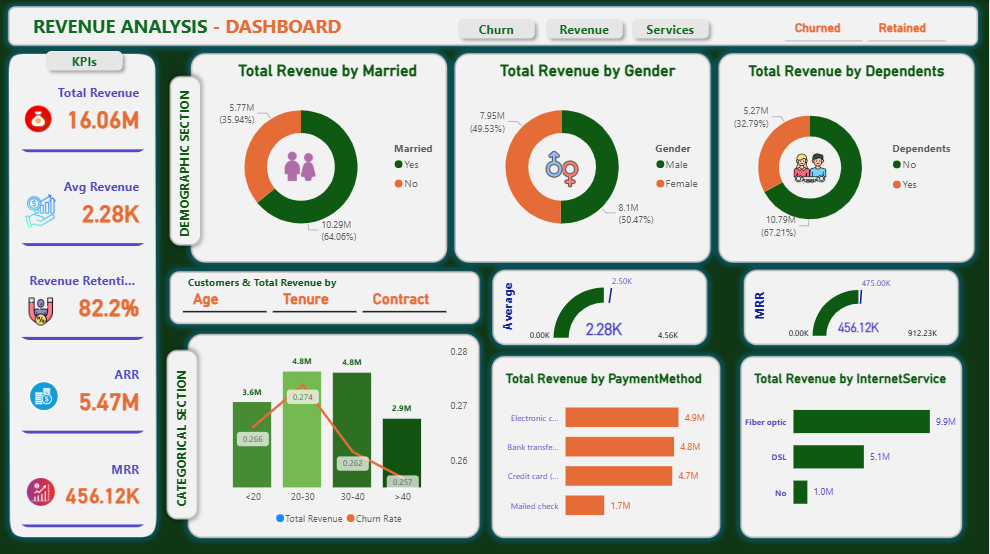

The dashboard page shown, as its layout file describes it:
{"tool":"powerbi","page":{"name":"Revenue","canvas":[1280,720],"ordinal":1},"visuals":[{"type":"cardVisual","fields":{"Data":["All_measure.Total Revenue","All_measure.Avg Revenue","All_measure.Revenue Retention Rate","All_measure.ARR","All_measure.MRR"]},"box":[20.5,78.3,180.6,608.4],"z":0},{"type":"donutChart","fields":{"Y":["All_measure.Total Revenue"],"Category":["Churn_Analysis.Partner"]},"box":[266.9,79,319.3,250.3],"z":0,"group":"g1"},{"type":"donutChart","fields":{"Y":["All_measure.Total Revenue"],"Category":["Churn_Analysis.Dependents"]},"box":[938.6,79.9,316.1,250.2],"z":0,"group":"g2"},{"type":"donutChart","fields":{"Y":["All_measure.Total Revenue"],"Category":["Churn_Analysis.Gender"]},"box":[604.1,79,316.5,250.3],"z":1000,"group":"g4"},{"type":"lineClusteredColumnComboChart","fields":{"Category":["Churn_Analysis.Age_Range","Churn_Analysis.Tenure_range","Churn_Analysis.Contract"],"Y":["All_measure.Total Revenue"],"Y2":["All_measure.Churn Rate"]},"box":[273.6,440.3,339.6,246.9],"z":1000},{"type":"textbox","box":[41.4,11.6,519.7,46.3],"z":2000},{"type":"advancedSlicerVisual","fields":{"Values":["Field_Parameter.Field_Parameter"]},"box":[234.4,356.5,351.2,52.6],"z":3000},{"type":"advancedSlicerVisual","fields":{"Values":["Churn_Analysis.Exited"]},"box":[1011.8,7.2,218.9,51.1],"z":4000},{"type":"image","box":[362.6,183.9,57.1,63.5],"z":4000,"group":"g1"},{"type":"group","id":"g1","title":"Group 1","box":[266.9,79,319.6,250.2],"z":5000},{"type":"group","id":"g2","title":"Group 3","box":[938.6,79.9,316.1,250.2],"z":6000},{"type":"textbox","box":[241.6,350.3,246,30.3],"z":7000},{"type":"group","id":"g3","title":"Group 4","box":[604.1,79,316.1,250.2],"z":8000},{"type":"group","id":"g4","title":"Group 2","box":[604.1,79,316.5,250.3],"z":9000,"group":"g3"},{"type":"shape","box":[225.9,98.5,31.4,223.4],"z":9000},{"type":"shape","box":[54.4,56.2,116.8,43],"z":10000},{"type":"image","box":[30.3,123.9,47.2,59.7],"z":11000},{"type":"image","box":[1018.8,191.4,62.8,52],"z":11001,"group":"g2"},{"type":"image","box":[30.3,243.3,53.5,57.9],"z":12000},{"type":"image","box":[33.9,372.6,46.4,57.9],"z":13000},{"type":"image","box":[33.9,484.9,53.5,51.7],"z":14000},{"type":"image","box":[33,607.9,46.4,53.5],"z":15000},{"type":"image","box":[701.4,189.7,57.4,56.5],"z":15001,"group":"g3"},{"type":"clusteredBarChart","fields":{"Y":["All_measure.Total Revenue"],"Category":["Churn_Analysis.PaymentMethod"]},"box":[642.7,478.7,280.8,207.7],"z":16000},{"type":"shape","box":[221.9,452.8,31.2,222.8],"z":17000},{"type":"gauge","title":"Average Revenue","fields":{"Y":["All_measure.Avg Revenue"]},"box":[677.4,337.8,211.3,111.4],"z":18000},{"type":"shape","box":[642.7,350.3,31.2,90],"z":19000},{"type":"clusteredBarChart","fields":{"Y":["All_measure.Total Revenue"],"Category":["Churn_Analysis.InternetService"]},"box":[958.2,478.7,284.3,197],"z":20000},{"type":"gauge","title":"Average Revenue","fields":{"Y":["All_measure.MRR"]},"box":[1011.7,337.8,211.3,111.4],"z":21000},{"type":"shape","box":[968,348.5,31.2,90],"z":22000},{"type":"shape","box":[699.8,15.2,116.9,42.8],"z":23000},{"type":"shape","box":[810.5,15.2,116.9,42.8],"z":24000},{"type":"shape","box":[586.4,15.2,116.9,42.8],"z":25000},{"type":"actionButton","box":[595.4,17.9,100,40.2],"z":26000},{"type":"actionButton","box":[820.3,17.9,100,40.2],"z":27000}]}

Visuals, with their boxes in screenshot pixels (x1, y1, x2, y2), scaled from the page's 1280x720 canvas onto the 990x554 screenshot:
cardVisual - All_measure.Total Revenue x All_measure.Avg Revenue: [left=16, top=60, right=156, bottom=528]
donutChart - All_measure.Total Revenue x Churn_Analysis.Partner: [left=206, top=61, right=453, bottom=253]
donutChart - All_measure.Total Revenue x Churn_Analysis.Dependents: [left=726, top=61, right=970, bottom=254]
donutChart - All_measure.Total Revenue x Churn_Analysis.Gender: [left=467, top=61, right=712, bottom=253]
lineClusteredColumnComboChart - Churn_Analysis.Age_Range x Churn_Analysis.Tenure_range: [left=212, top=339, right=474, bottom=529]
textbox: [left=32, top=9, right=434, bottom=45]
advancedSlicerVisual - Field_Parameter.Field_Parameter: [left=181, top=274, right=453, bottom=315]
advancedSlicerVisual - Churn_Analysis.Exited: [left=783, top=6, right=952, bottom=45]
image: [left=280, top=142, right=325, bottom=190]
"Group 1" group: [left=206, top=61, right=454, bottom=253]
"Group 3" group: [left=726, top=61, right=970, bottom=254]
textbox: [left=187, top=270, right=377, bottom=293]
"Group 4" group: [left=467, top=61, right=712, bottom=253]
"Group 2" group: [left=467, top=61, right=712, bottom=253]
shape: [left=175, top=76, right=199, bottom=248]
shape: [left=42, top=43, right=132, bottom=76]
image: [left=23, top=95, right=60, bottom=141]
image: [left=788, top=147, right=837, bottom=187]
image: [left=23, top=187, right=65, bottom=232]
image: [left=26, top=287, right=62, bottom=331]
image: [left=26, top=373, right=68, bottom=413]
image: [left=26, top=468, right=61, bottom=509]
image: [left=542, top=146, right=587, bottom=189]
clusteredBarChart - All_measure.Total Revenue x Churn_Analysis.PaymentMethod: [left=497, top=368, right=714, bottom=528]
shape: [left=172, top=348, right=196, bottom=520]
"Average Revenue" gauge: [left=524, top=260, right=687, bottom=346]
shape: [left=497, top=270, right=521, bottom=339]
clusteredBarChart - All_measure.Total Revenue x Churn_Analysis.InternetService: [left=741, top=368, right=961, bottom=520]
"Average Revenue" gauge: [left=782, top=260, right=946, bottom=346]
shape: [left=749, top=268, right=773, bottom=337]
shape: [left=541, top=12, right=632, bottom=45]
shape: [left=627, top=12, right=717, bottom=45]
shape: [left=454, top=12, right=544, bottom=45]
actionButton: [left=461, top=14, right=538, bottom=45]
actionButton: [left=634, top=14, right=712, bottom=45]
